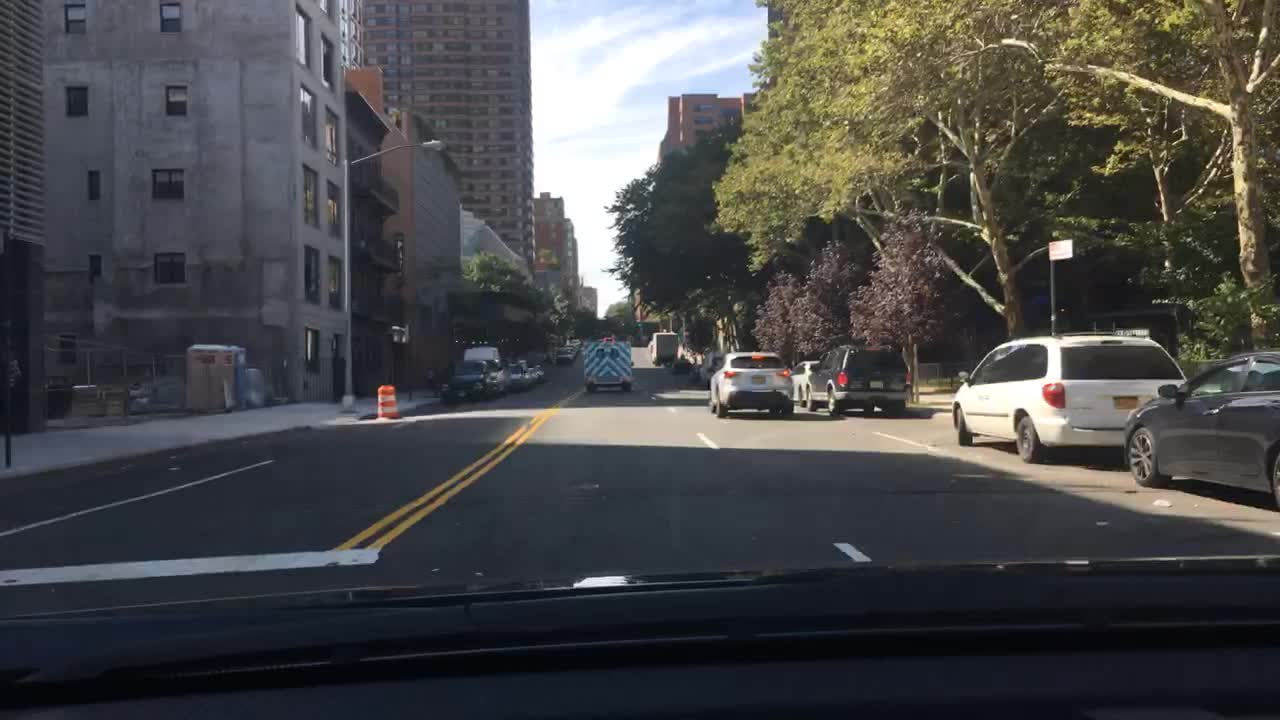car: (950, 333, 1189, 463), (1125, 348, 1278, 510), (805, 346, 907, 417), (706, 352, 794, 419), (463, 346, 508, 395), (441, 371, 489, 405), (790, 358, 819, 405), (697, 353, 723, 389), (509, 360, 533, 390), (673, 357, 691, 374), (530, 366, 546, 384), (558, 347, 573, 364), (571, 338, 580, 347), (570, 345, 579, 352)
traffic sign: (1048, 237, 1074, 261)
truck: (581, 337, 632, 393), (647, 332, 679, 368)
